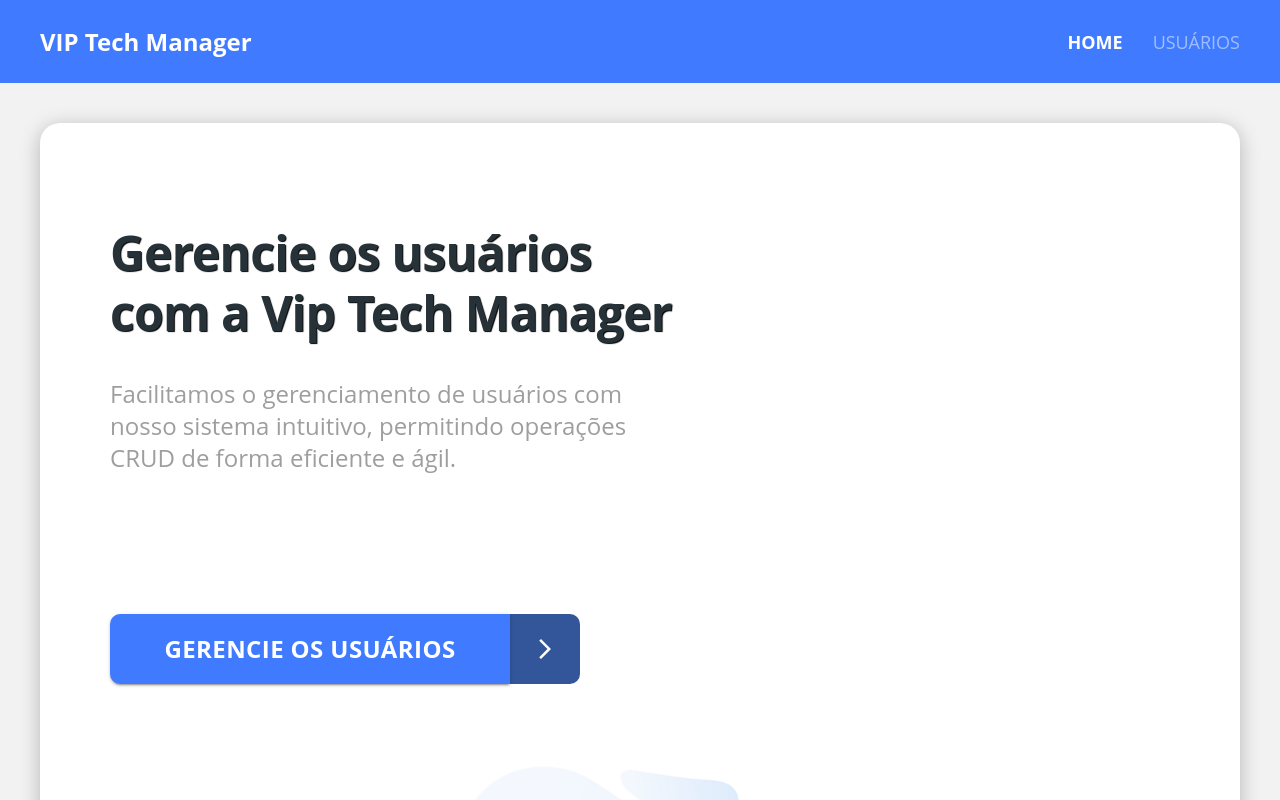
Scenario: User list flow › Should delete a user
Click the button "Gerencie os usuários".
click(310, 649)  # box [110, 614, 510, 684]
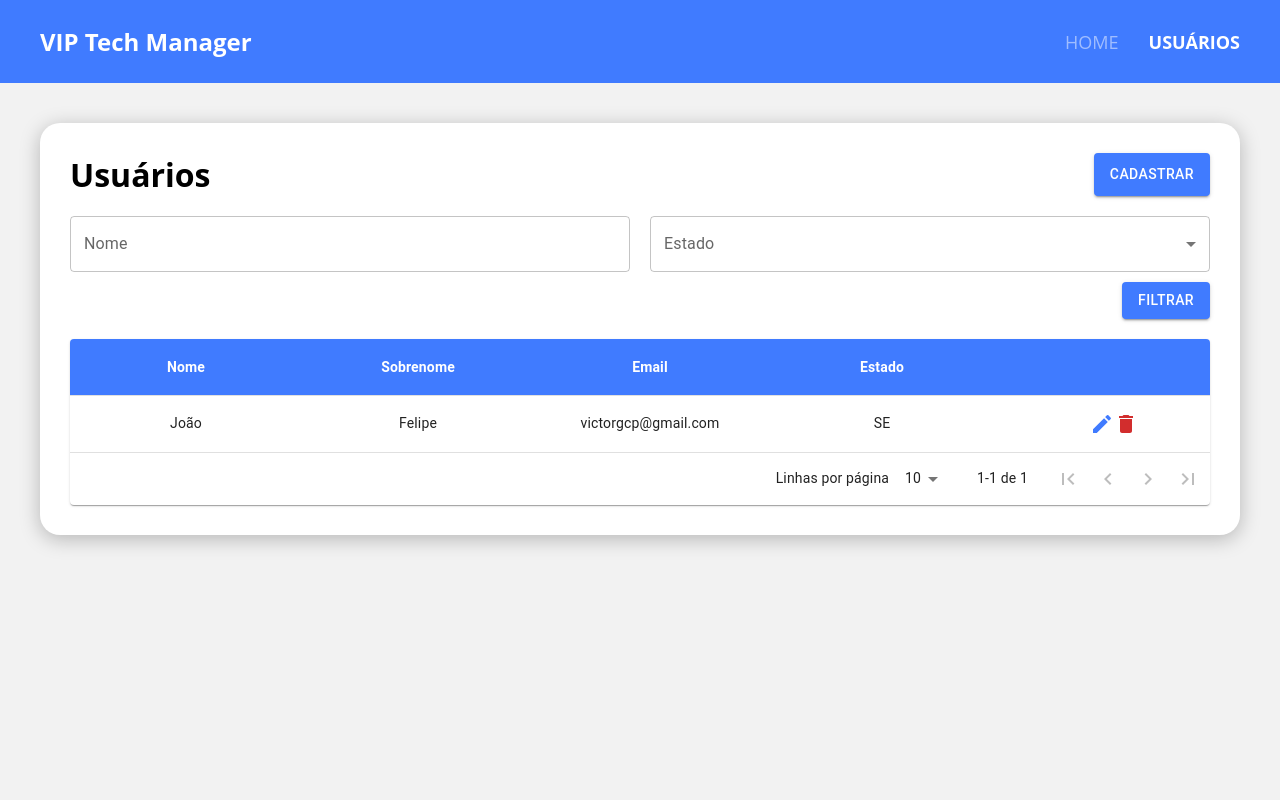
Click the icon with test id "DeleteIcon".
click(1126, 424)  # box [1114, 412, 1138, 436]
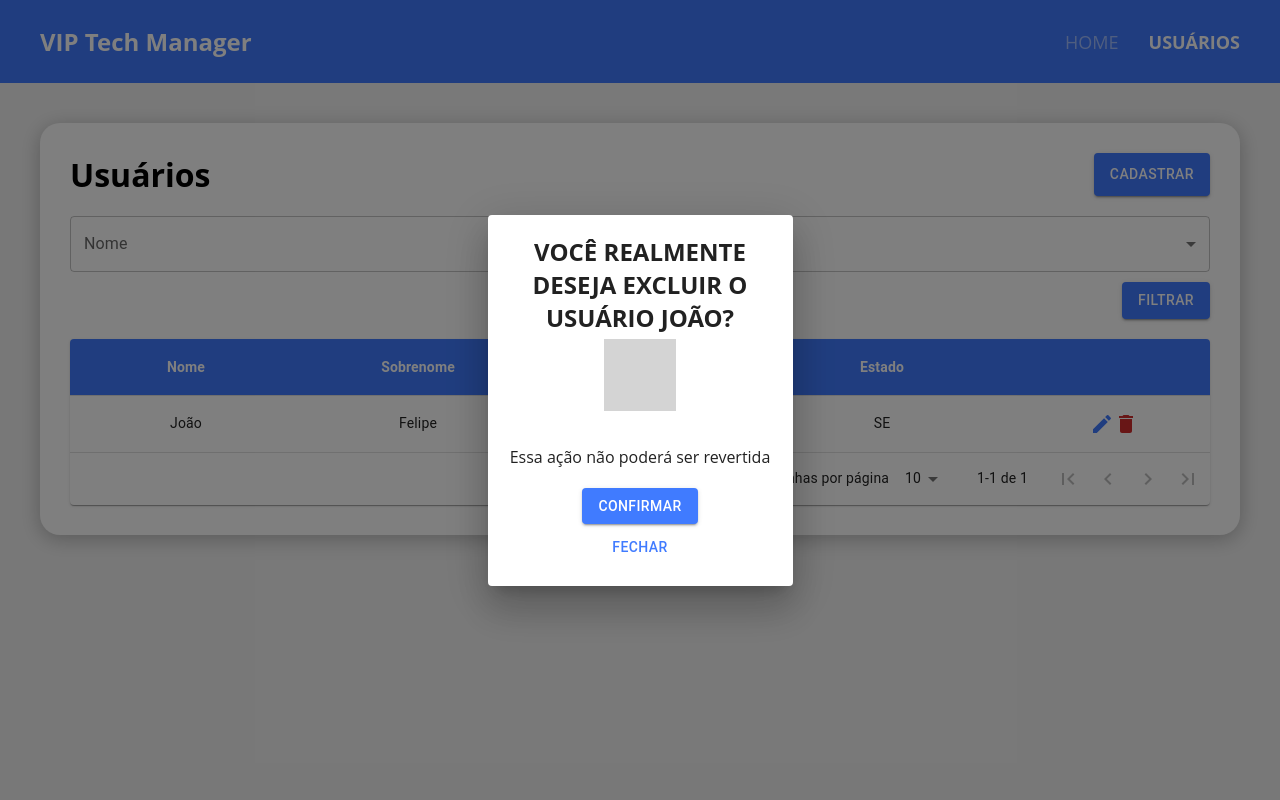
Click the button "Confirmar".
click(640, 507)  # box [582, 488, 697, 525]
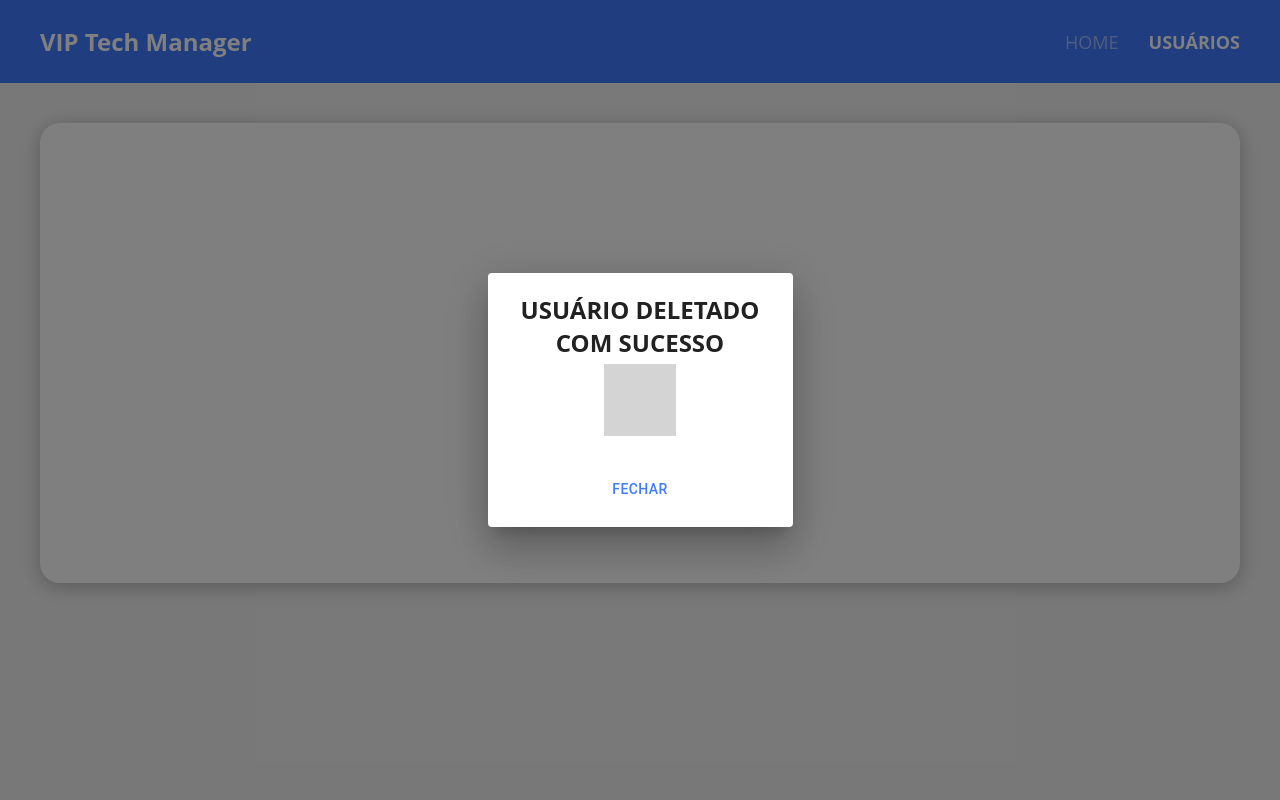
Check: the heading "Usuário deletado com sucesso" is shown, box [508, 293, 772, 359]
Click the button "Fechar".
click(640, 490)  # box [604, 471, 675, 508]
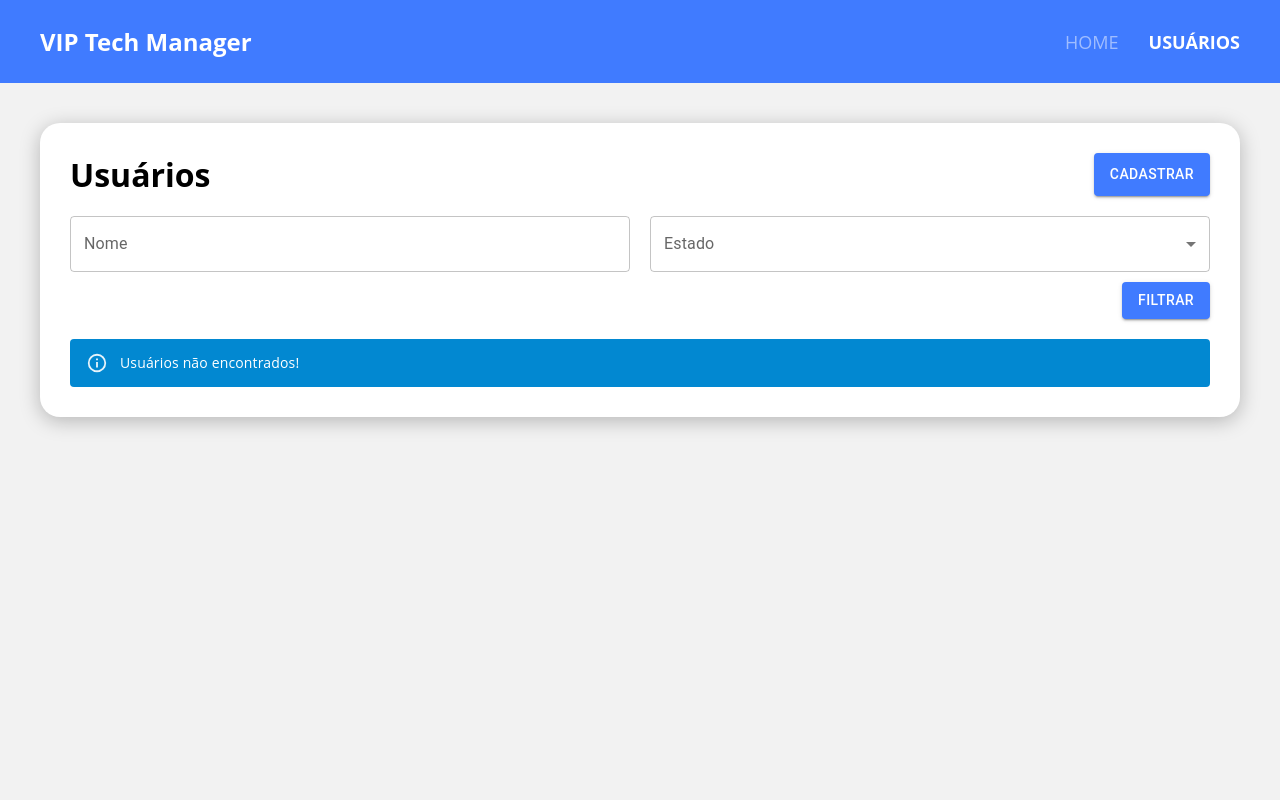
Check: the text "Usuários não encontrados!" is shown, box [120, 352, 299, 372]
